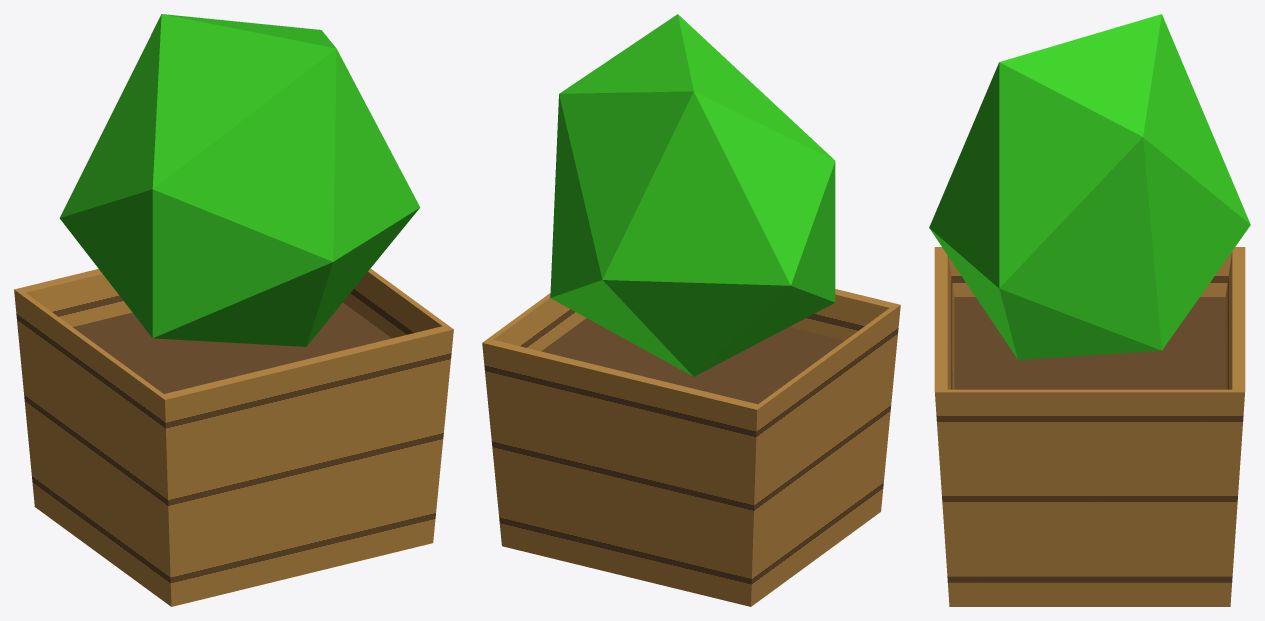
Rendered from PLANT_INDOOR1.fbx.
3 renders of one model, left to right at view 1: azimuth 30°, elevation 25°; view 2: azimuth 150°, elevation 25°; view 3: azimuth 270°, elevation 25°, orthographic. The views are drawn at different scales.
Visible parts, largest first — view 1: pPlatonic5; view 2: pPlatonic5; view 3: pPlatonic5.
Boxes of the visible parts, bbox=[...] form: pPlatonic5: bbox=[14, 14, 453, 606]; pPlatonic5: bbox=[482, 14, 900, 606]; pPlatonic5: bbox=[929, 14, 1250, 606].
Size of the model in its own units: 148 by 241 by 138.
1 material, 1 textured.
